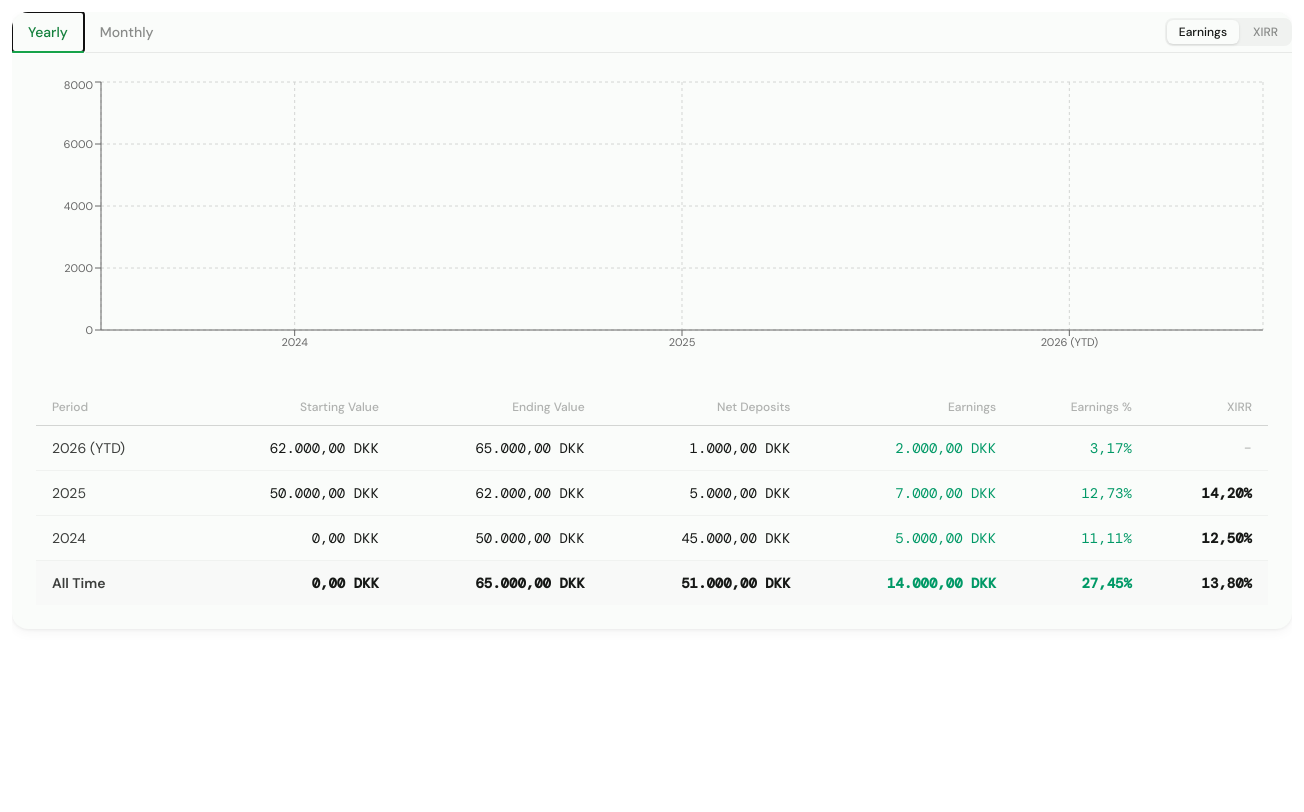
Test case: PlatformDetailPerfTabs › empty state › shows empty message when monthly data is empty and monthly tab active
The width and height of the screenshot is (1304, 812).
Click the tab "Monthly" at x=127, y=32, box [84,12,170,52]
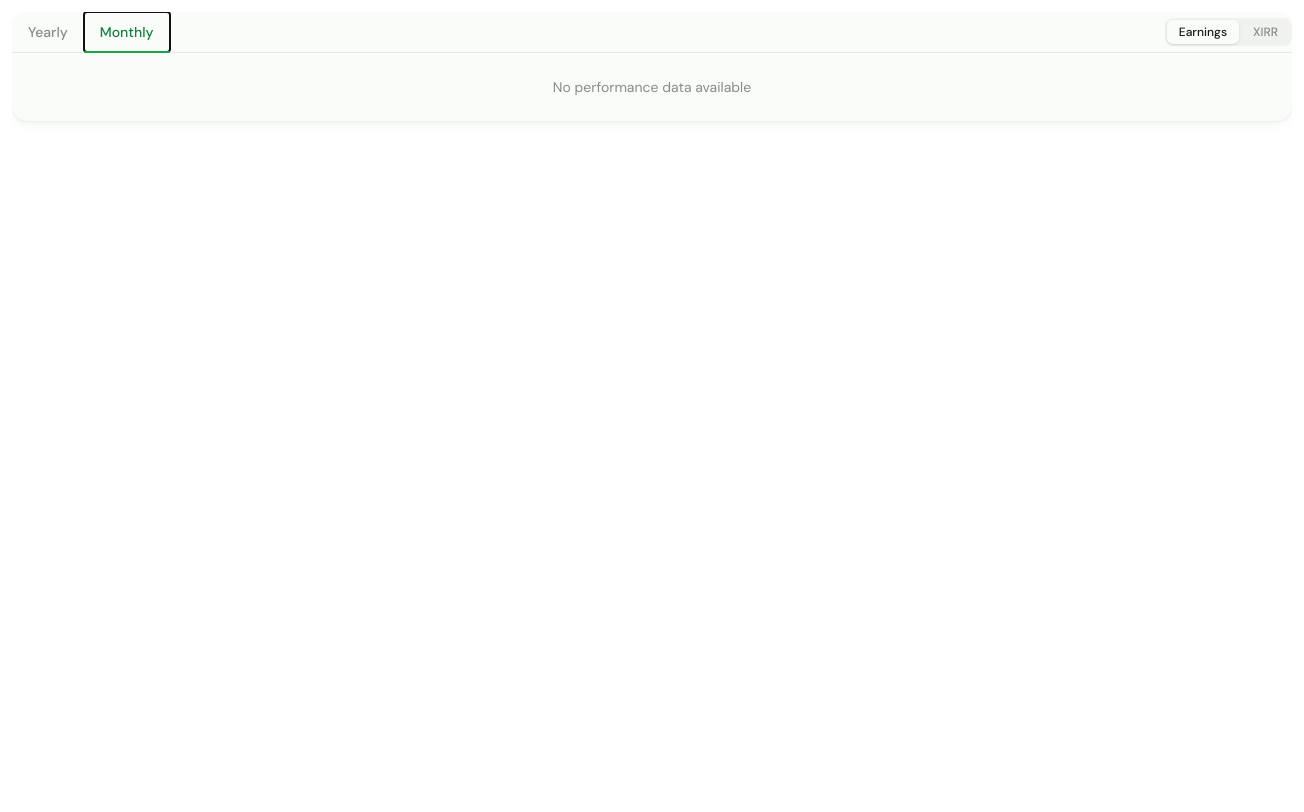
Check: the text "No performance data available" is shown, box [553,78,751,96]
